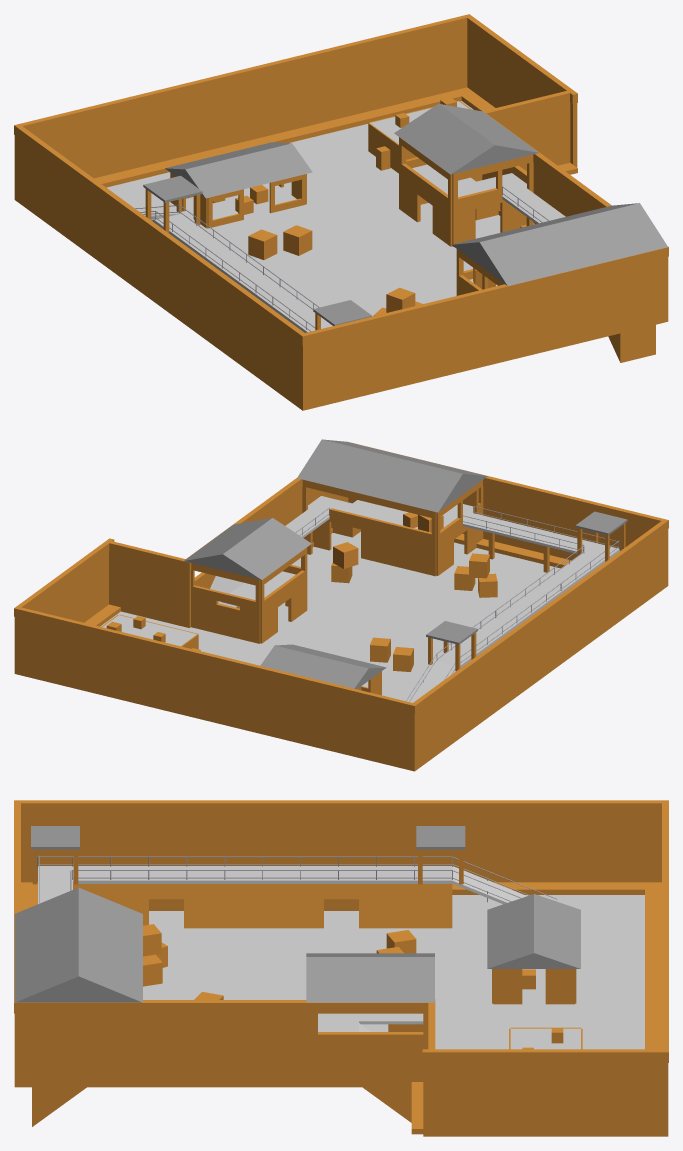
The model's file is arena_map.glb.
3 views of the same model, one above another, from view 1: azimuth 30°, elevation 25°; view 2: azimuth 150°, elevation 25°; view 3: azimuth 270°, elevation 25° (orthographic). The views are drawn at different scales.
Parts seen in each view (by area): view 1: NWall, SWall, WWall, Floor_main, SE_roof, Floor_NE, Floor_main.001, NE_roof, NTrim, EWall_top, HS_roof, STrim (+24 smaller); view 2: NWall, Floor_main.001, WWall, Floor_main, SE_roof, SWall, StepOutWall, NE_roof, NTrim, Walk_W_floor, WTrim, EWall_top (+32 smaller); view 3: WWall, EWall_bot_S, Floor_main.001, EWall_top, Floor_main, SE_roof, Floor_NE, WTrim, NE_roof, HS_roof, Corr_wall_E_sec2, Walk_W_floor (+29 smaller).
Boxes of the visible parts, x1,y1,x2,y2 form: NWall: [15, 15, 470, 199]; SWall: [300, 257, 668, 410]; WWall: [14, 124, 307, 410]; Floor_main: [234, 203, 500, 316]; SE_roof: [451, 203, 667, 285]; Floor_NE: [244, 124, 398, 230]; Floor_main.001: [107, 124, 441, 314]; NE_roof: [394, 103, 539, 174]; NTrim: [14, 14, 471, 136]; EWall_top: [465, 14, 577, 167]; HS_roof: [165, 142, 312, 198]; STrim: [299, 247, 668, 345]; NWall: [14, 608, 416, 770]; Floor_main.001: [184, 532, 559, 701]; WWall: [410, 520, 668, 771]; Floor_main: [278, 531, 560, 682]; SE_roof: [297, 439, 487, 512]; SWall: [348, 476, 668, 571]; StepOutWall: [109, 541, 190, 627]; NE_roof: [184, 518, 311, 579]; NTrim: [14, 607, 415, 713]; Walk_W_floor: [437, 553, 605, 667]; WTrim: [410, 519, 668, 714]; EWall_top: [14, 538, 112, 674]; WWall: [14, 800, 668, 882]; EWall_bot_S: [14, 1000, 312, 1087]; Floor_main.001: [143, 895, 644, 1048]; EWall_top: [423, 1049, 668, 1136]; Floor_main: [143, 911, 428, 1031]; SE_roof: [14, 887, 142, 1002]; Floor_NE: [435, 986, 644, 1049]; WTrim: [21, 800, 668, 813]; NE_roof: [306, 953, 434, 1002]; HS_roof: [487, 894, 580, 968]; Corr_wall_E_sec2: [184, 884, 323, 928]; Walk_W_floor: [73, 866, 452, 883].
Bounding box in the file's own units: 51.1 × 14.5 × 56.1.
